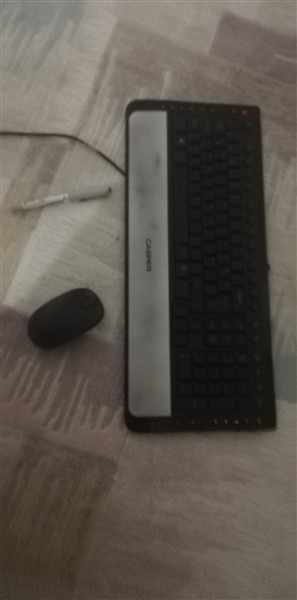klavye: (122, 91, 282, 439)
mouse: (26, 285, 106, 354)
pilot kalem: (12, 188, 116, 213)
